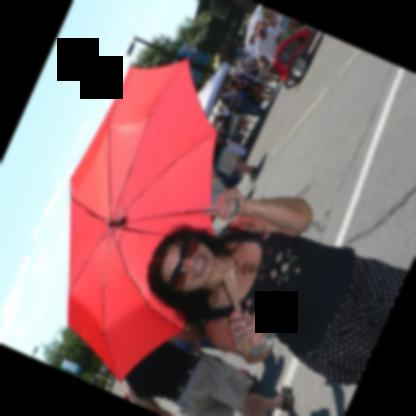handbag: (218, 137, 246, 157)
